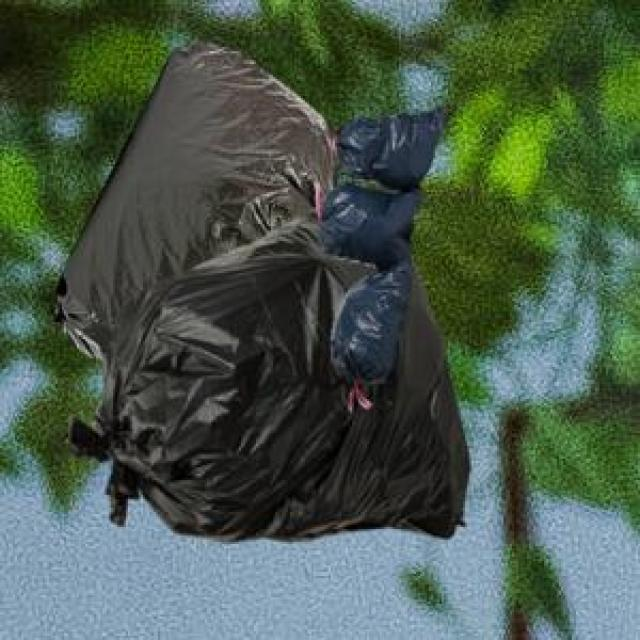Trashbag: (325, 259, 421, 394), (333, 96, 451, 195), (312, 181, 429, 273)
